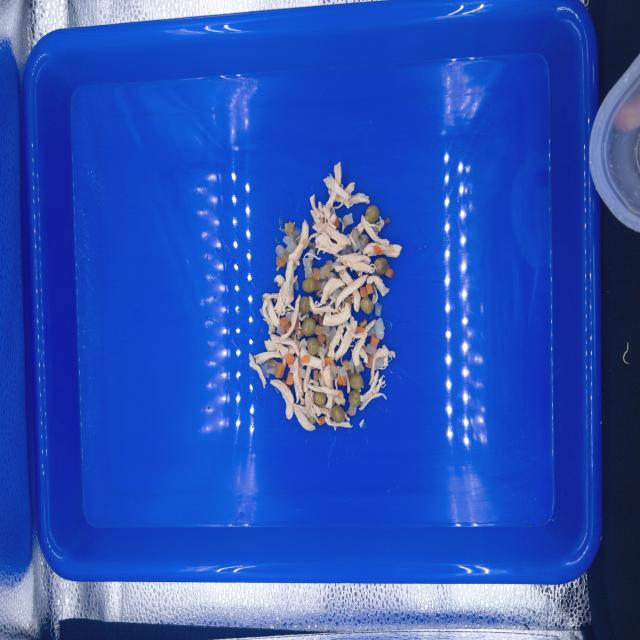Carrot: (274, 363, 285, 378), (365, 353, 373, 368), (285, 372, 294, 385), (324, 357, 336, 366), (276, 257, 286, 267), (285, 354, 294, 365), (280, 317, 289, 328), (385, 267, 394, 278), (370, 336, 379, 347), (317, 334, 326, 345), (312, 268, 320, 280), (337, 376, 346, 386), (318, 415, 326, 426), (301, 355, 310, 364), (355, 326, 365, 334), (366, 284, 374, 294), (360, 287, 368, 297), (315, 325, 323, 335), (373, 245, 381, 254), (319, 313, 325, 325), (359, 319, 367, 327), (342, 360, 349, 369), (294, 318, 299, 330), (333, 218, 339, 228), (313, 370, 318, 381), (286, 323, 291, 332), (311, 315, 318, 321)
Chicken_Shred: (304, 194, 351, 255), (323, 162, 370, 216), (268, 258, 300, 320), (307, 366, 345, 409), (335, 316, 365, 362), (336, 274, 369, 311), (368, 345, 396, 386), (294, 389, 321, 431), (351, 319, 375, 366), (359, 370, 387, 410), (333, 253, 377, 277), (280, 294, 301, 341), (270, 379, 294, 420), (268, 332, 307, 357), (288, 219, 309, 265), (361, 215, 390, 247), (253, 340, 289, 365), (289, 358, 305, 405), (320, 277, 346, 304), (323, 302, 351, 326), (327, 323, 346, 358), (249, 353, 267, 389), (308, 296, 340, 316), (262, 293, 280, 327), (362, 243, 402, 258), (300, 345, 322, 369), (367, 275, 389, 297), (262, 299, 275, 335), (325, 415, 353, 431), (322, 364, 334, 389), (348, 289, 361, 312), (283, 345, 295, 368), (339, 268, 354, 286), (319, 352, 326, 386), (303, 366, 312, 392), (328, 295, 337, 309), (355, 222, 364, 236), (298, 310, 309, 321), (319, 407, 331, 417), (372, 285, 378, 305), (334, 264, 348, 272), (308, 377, 319, 386), (346, 375, 350, 393)
Peas: (302, 317, 316, 336), (331, 405, 345, 423), (365, 205, 379, 223), (374, 258, 388, 275), (348, 389, 361, 407), (302, 277, 316, 293), (350, 373, 363, 390), (360, 297, 373, 314), (307, 337, 319, 355), (299, 296, 311, 313), (314, 392, 326, 406), (306, 414, 317, 424)
Potato_White: (283, 236, 297, 254), (322, 325, 336, 343), (374, 318, 385, 339), (302, 258, 312, 279), (351, 240, 367, 252), (326, 261, 342, 271), (343, 213, 354, 226), (275, 245, 286, 257), (276, 324, 286, 336), (366, 344, 376, 356), (354, 361, 364, 373), (330, 364, 337, 380), (367, 325, 376, 337), (339, 365, 347, 378), (348, 357, 354, 374), (332, 288, 342, 298), (375, 357, 384, 368), (352, 228, 359, 242), (359, 234, 367, 246), (348, 405, 357, 415), (318, 345, 326, 356), (285, 311, 293, 322), (320, 267, 327, 279), (375, 305, 382, 316), (299, 366, 305, 378), (327, 272, 336, 280), (267, 366, 276, 374), (321, 281, 326, 292), (309, 249, 316, 256), (259, 308, 264, 317), (308, 255, 314, 261)
